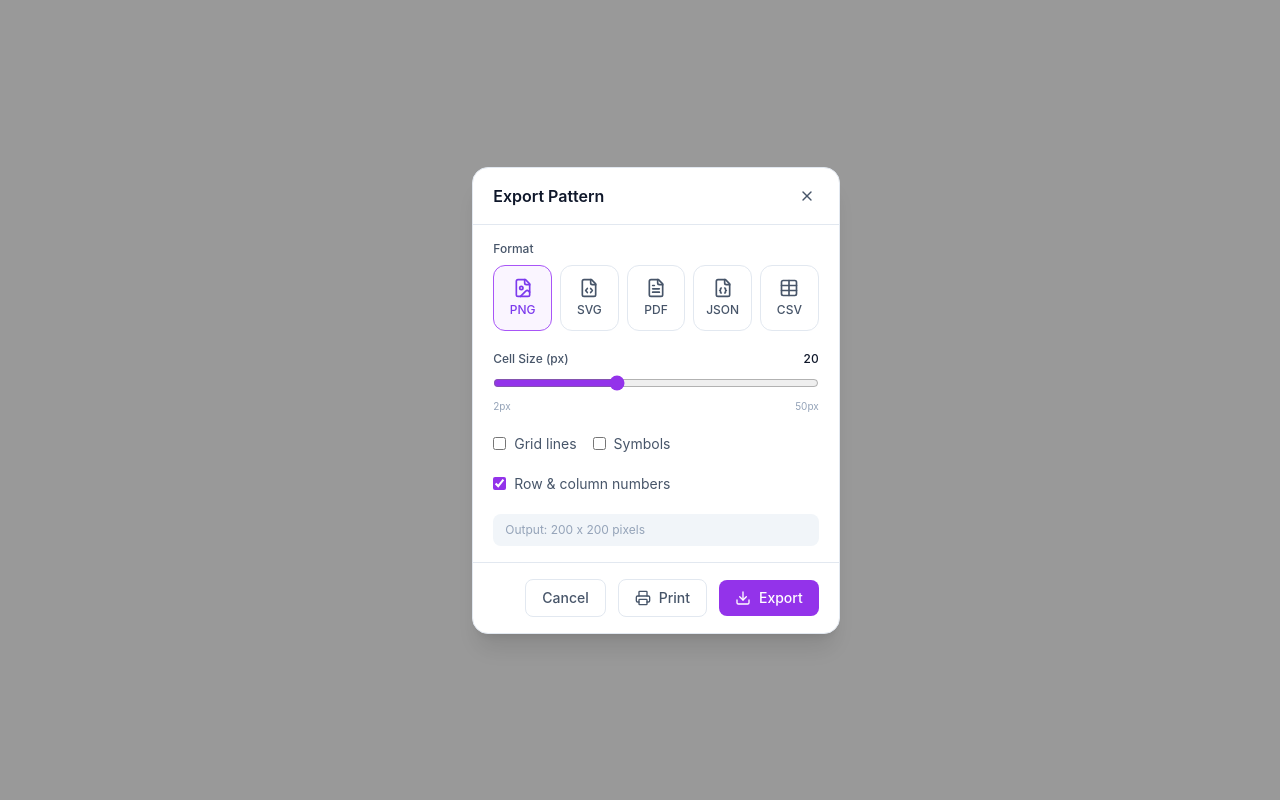
ExportDialog › shows PDF-specific options when PDF selected
Click the button "PDF".
click(656, 298)  # box [627, 264, 685, 330]
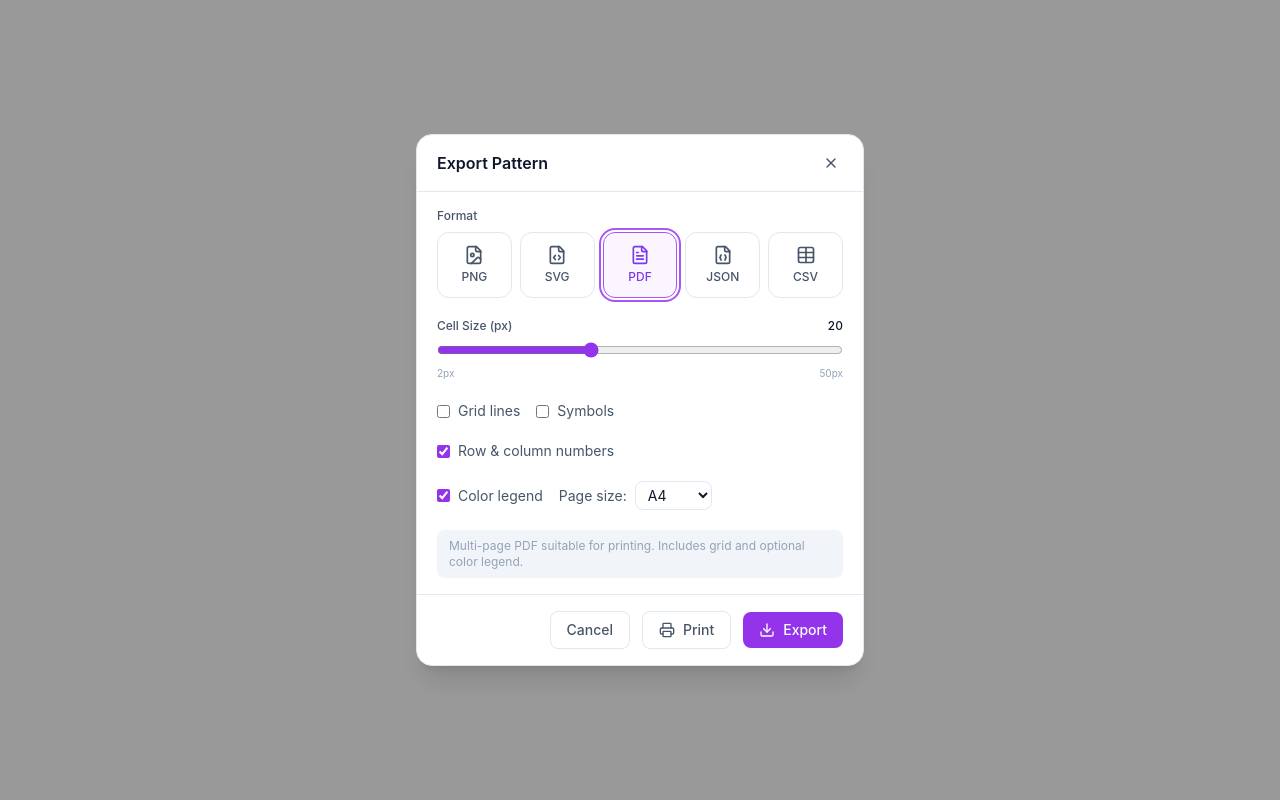
Expected: the checkbox labelled "Color legend" is shown, [437, 489, 450, 502]
Expected: the dropdown labelled "Page size:" is shown, [635, 481, 712, 510]
